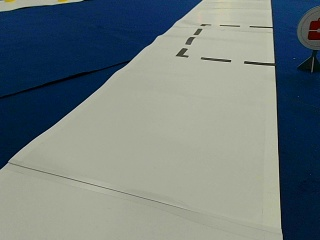company: (297, 5, 320, 48)
